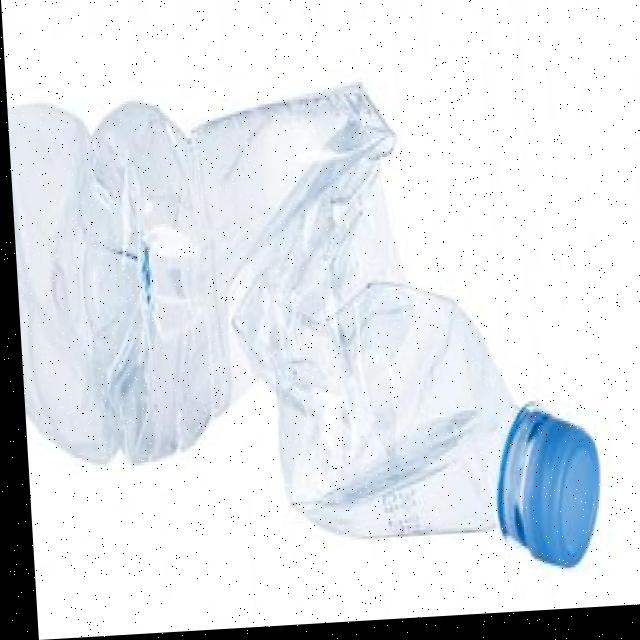bottle: (7, 4, 638, 640)
